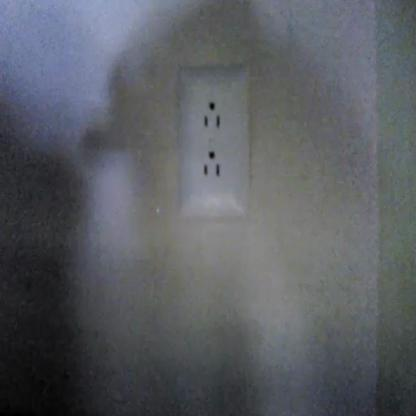OUTLET: (178, 68, 249, 219)
